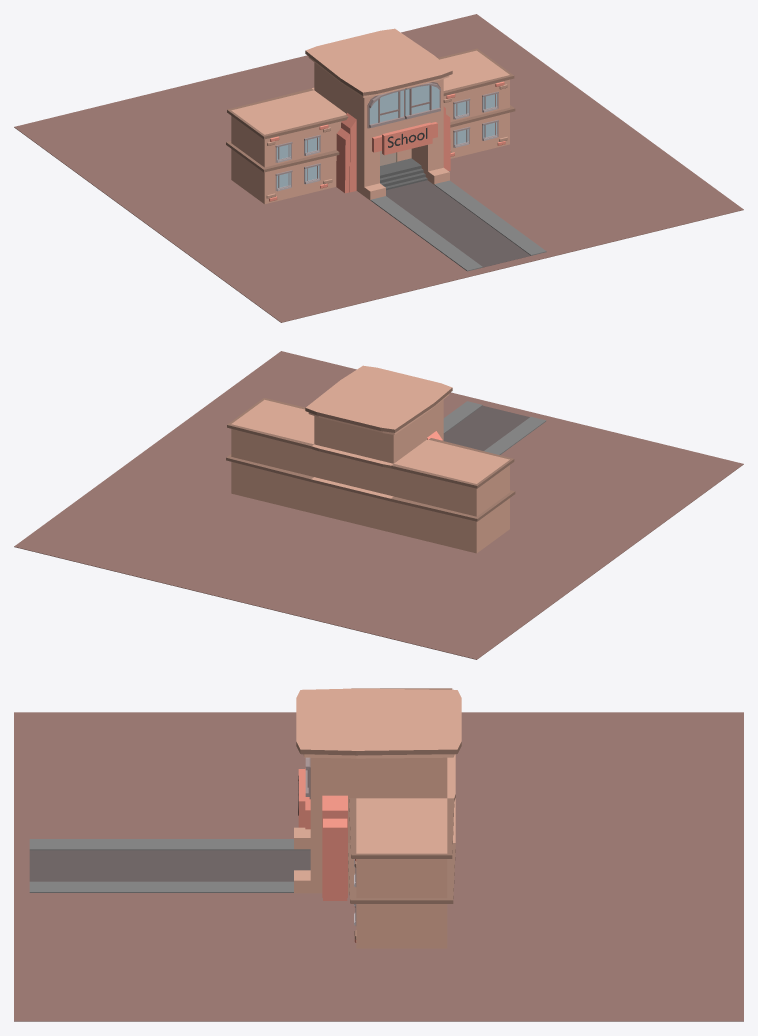
The model's file is school.fbx.
3 views of the same model, one above another, from view 1: azimuth 30°, elevation 25°; view 2: azimuth 150°, elevation 25°; view 3: azimuth 270°, elevation 25° (orthographic). The views are drawn at different scales.
Visible parts, largest first — view 1: Cube.005, Cube, Cube.047, Cube.016, Cube.049, Cube.048, Cube.015, Cube.004, Cube.003; view 2: Cube.005, Cube, Cube.047, Cube.049, Cube.048; view 3: Cube.005, Cube, Cube.047, Cube.049, Cube.048, Cube.002, Cube.001.
Part boxes in pixels (x1,y1,x2,y2): Cube.005: [14, 14, 743, 322]; Cube: [226, 28, 515, 204]; Cube.047: [386, 180, 530, 267]; Cube.016: [369, 83, 440, 127]; Cube.049: [370, 196, 482, 271]; Cube.048: [434, 180, 546, 255]; Cube.015: [380, 158, 427, 190]; Cube.004: [336, 128, 349, 193]; Cube.003: [341, 113, 356, 192]; Cube.005: [14, 351, 743, 659]; Cube: [226, 365, 515, 553]; Cube.047: [443, 405, 529, 450]; Cube.049: [484, 416, 546, 454]; Cube.048: [443, 401, 482, 433]; Cube.005: [14, 712, 743, 1021]; Cube: [294, 688, 461, 948]; Cube.047: [29, 850, 310, 881]; Cube.049: [29, 839, 310, 850]; Cube.048: [29, 881, 293, 892]; Cube.002: [323, 818, 347, 900]; Cube.001: [322, 795, 347, 897].
Bounding box in the file's own units: 5693 × 1293 × 5693.
